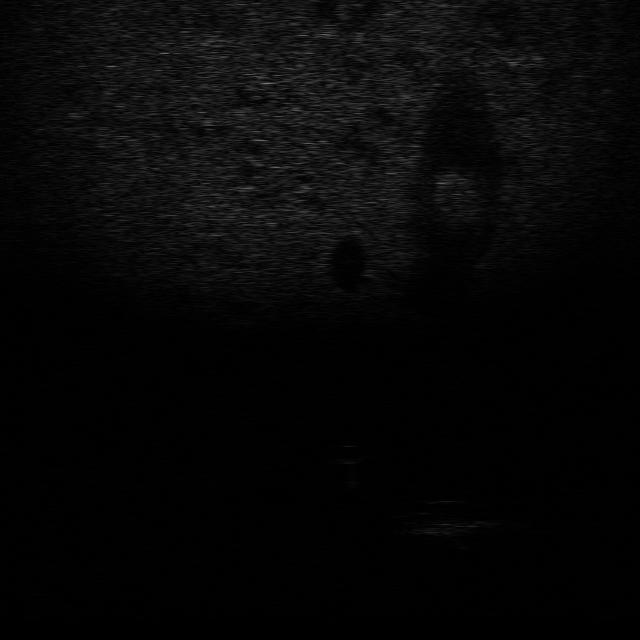ball: (328, 439, 372, 465)
metal bucket: (391, 517, 484, 545)
tyre: (412, 494, 510, 528)
